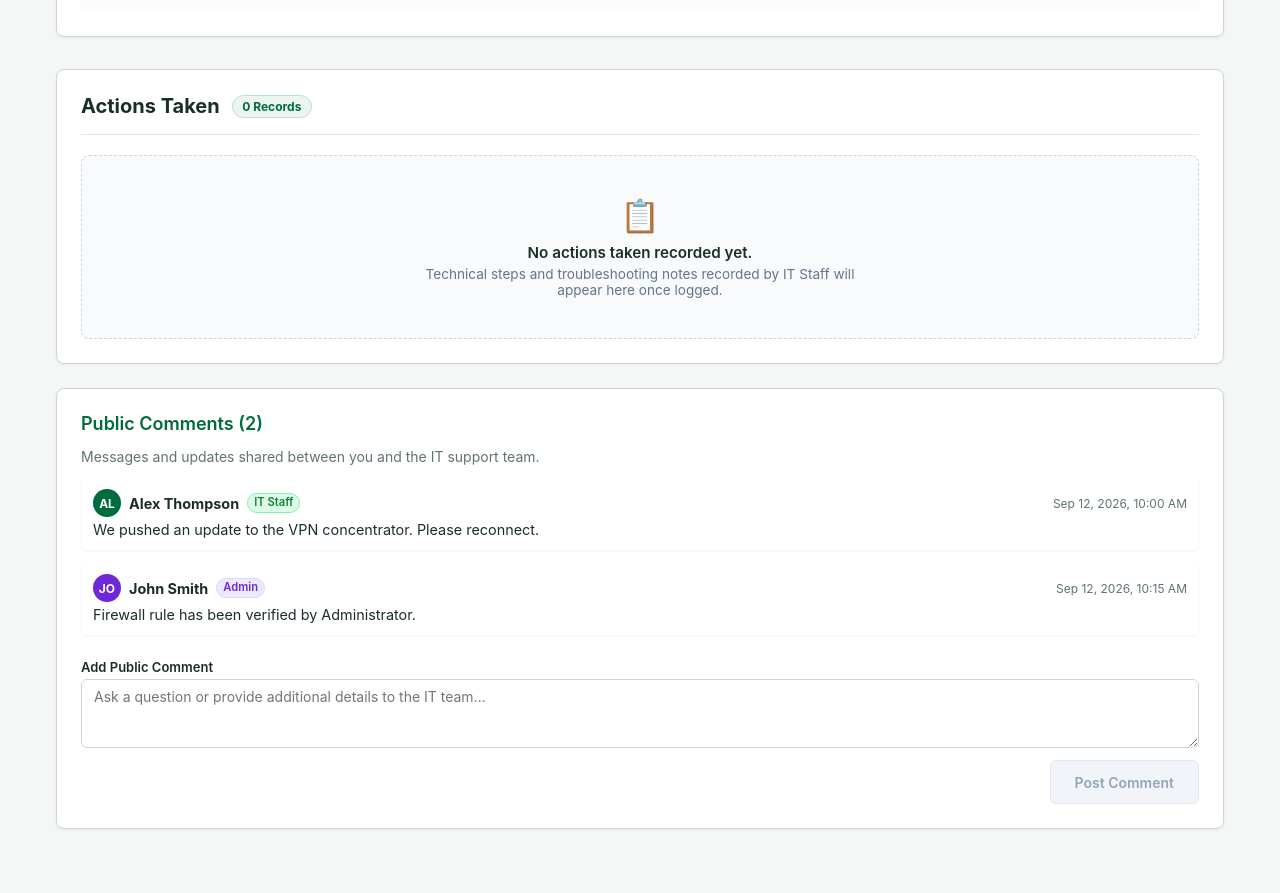
Test: UI-08: Requester Ticket Detail Enhancements & Isolation › renders public comments with correct author role badges (Admin, IT Staff, Requester) and allows posting
(page scrolled)
Expected: the element with test id "public-comments-section" is shown, [56,388,1224,829]
Expected: the heading "Public Comments (2)" is shown, [81,413,263,434]
// Post new comment
Type "VPN is now working solidly. Thank you!" into the text box with test id "requester-comment-input".
click(640, 714); type("VPN is now working solidly. Thank you!")  # box [81,679,1199,748]
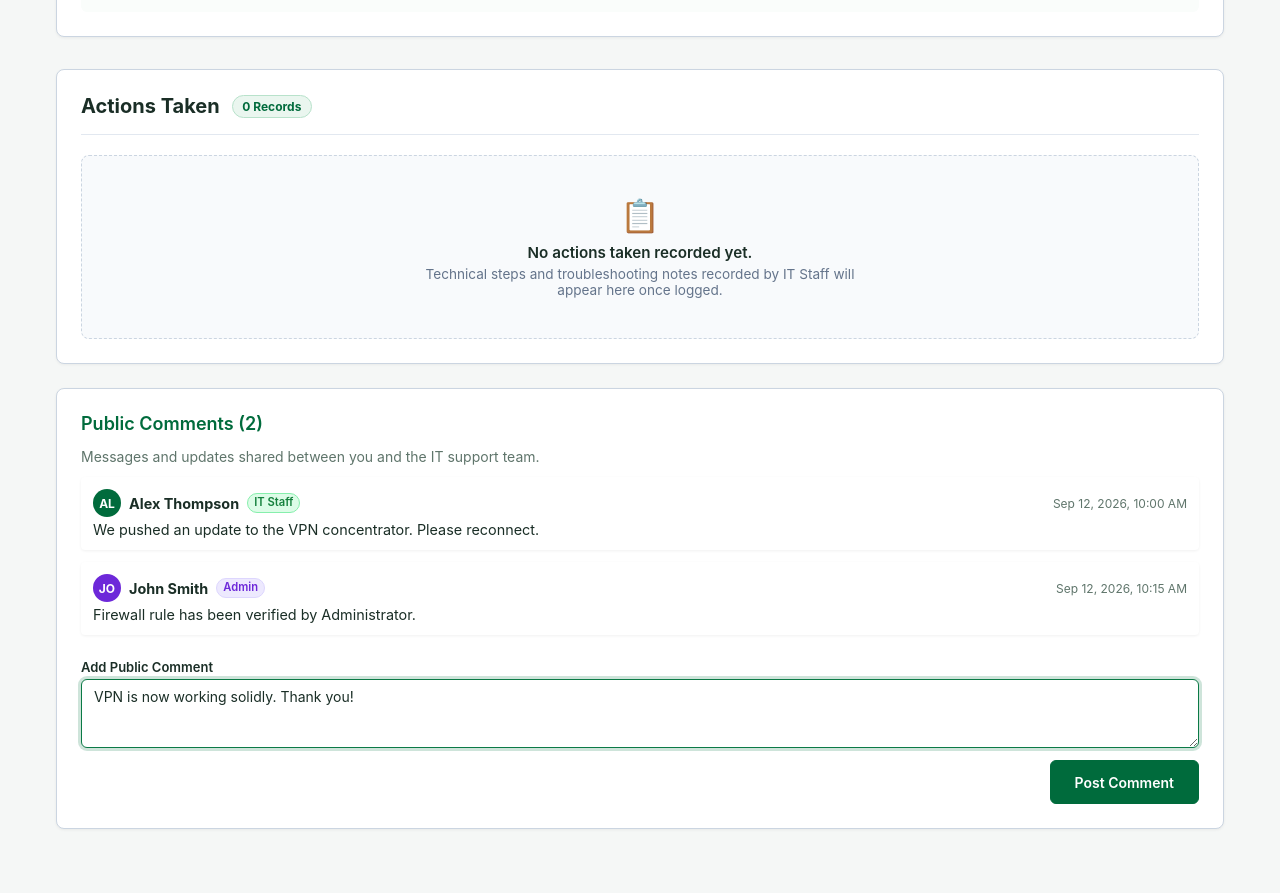
Click the button with test id "requester-comment-submit".
click(1124, 782)  # box [1050,760,1199,804]
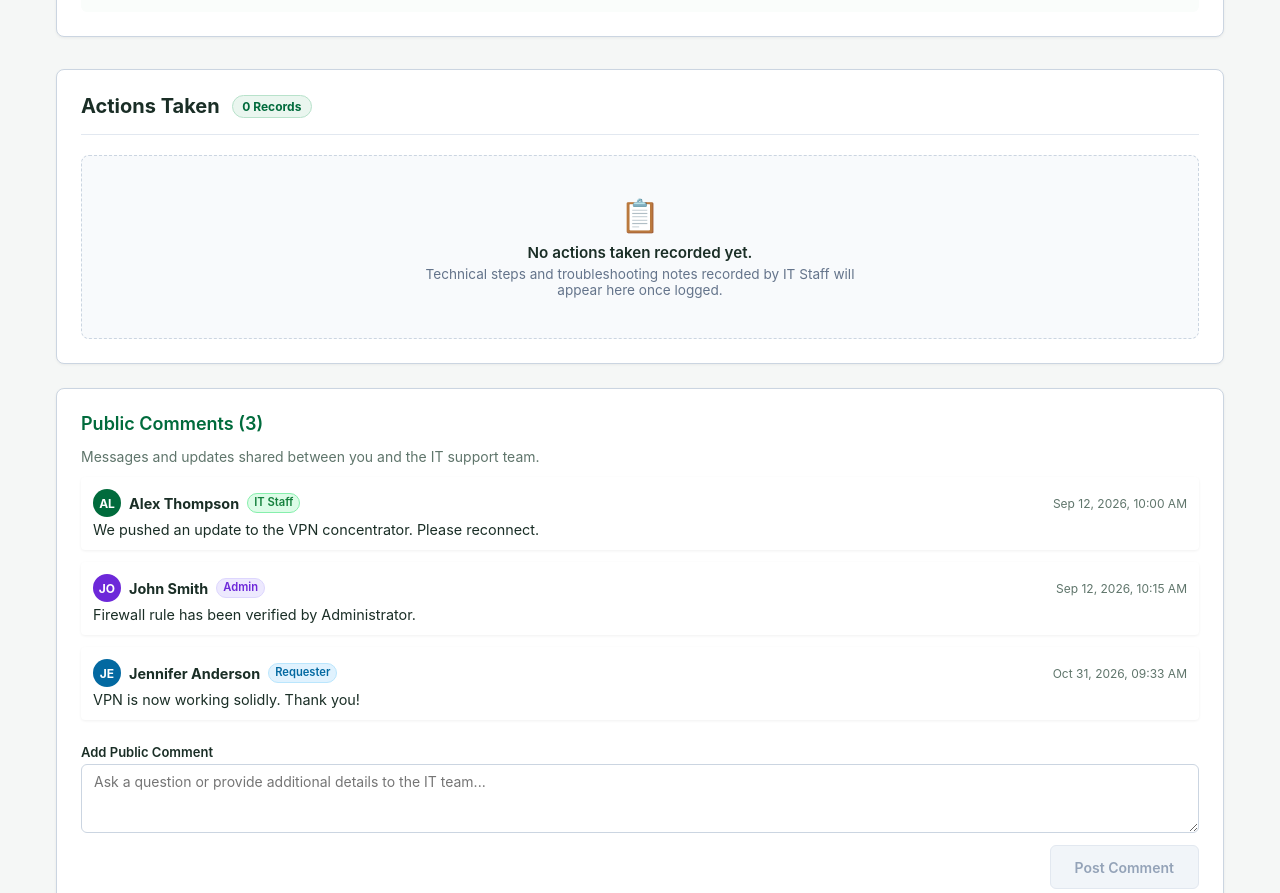
Expected: the text "VPN is now working solidly. Thank you!" is shown, [93,691,360,708]
Expected: the text "Requester" is shown, [268,664,337,683]
